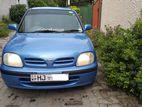car: (1, 7, 99, 92)
